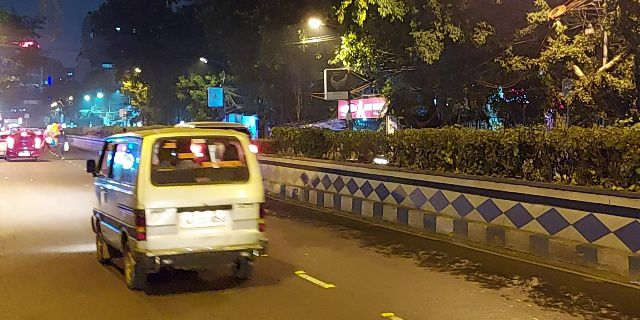Van: (96, 125, 272, 289)
